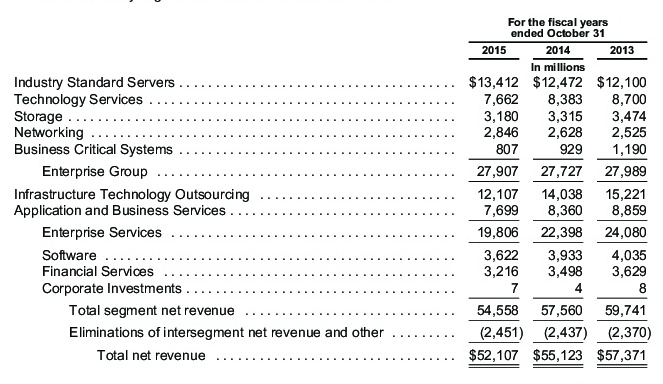table: (0, 0, 663, 384)
